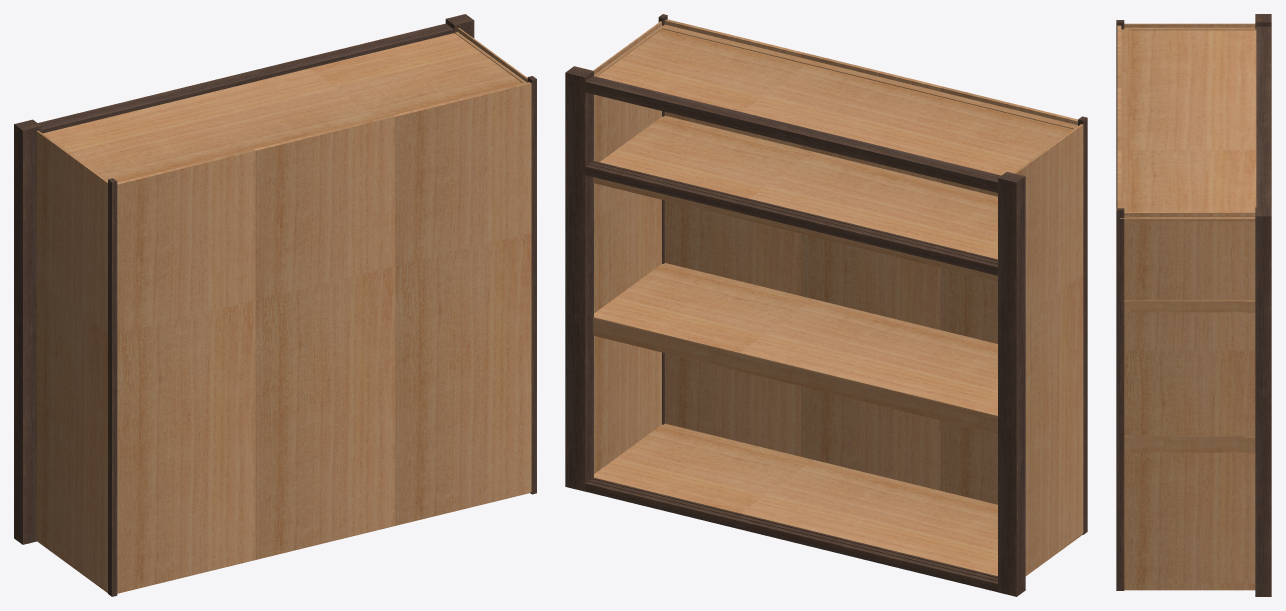
File: inwall_osiire_4.5t_a.fbx
3 views of the same model, side by side, from view 1: azimuth 30°, elevation 25°; view 2: azimuth 150°, elevation 25°; view 3: azimuth 270°, elevation 25° (orthographic). The views are drawn at different scales.
Visible parts, largest first — view 1: inwall_osiire_4.5t_a; view 2: inwall_osiire_4.5t_a; view 3: inwall_osiire_4.5t_a.
Part boxes in pixels (x1,y1,x2,y2): inwall_osiire_4.5t_a: (14,14,536,596); inwall_osiire_4.5t_a: (565,14,1087,596); inwall_osiire_4.5t_a: (1116,14,1271,596).
Bounding box in the file's own units: 337 × 296 × 109.
